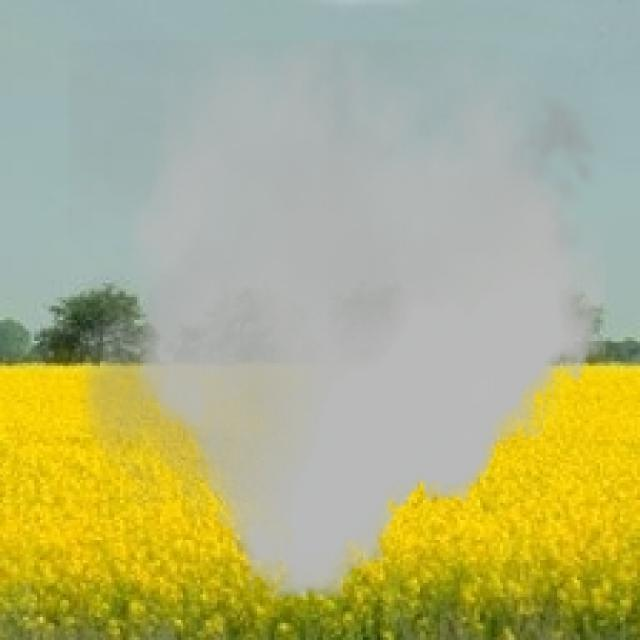Smoke: (68, 40, 614, 600)
